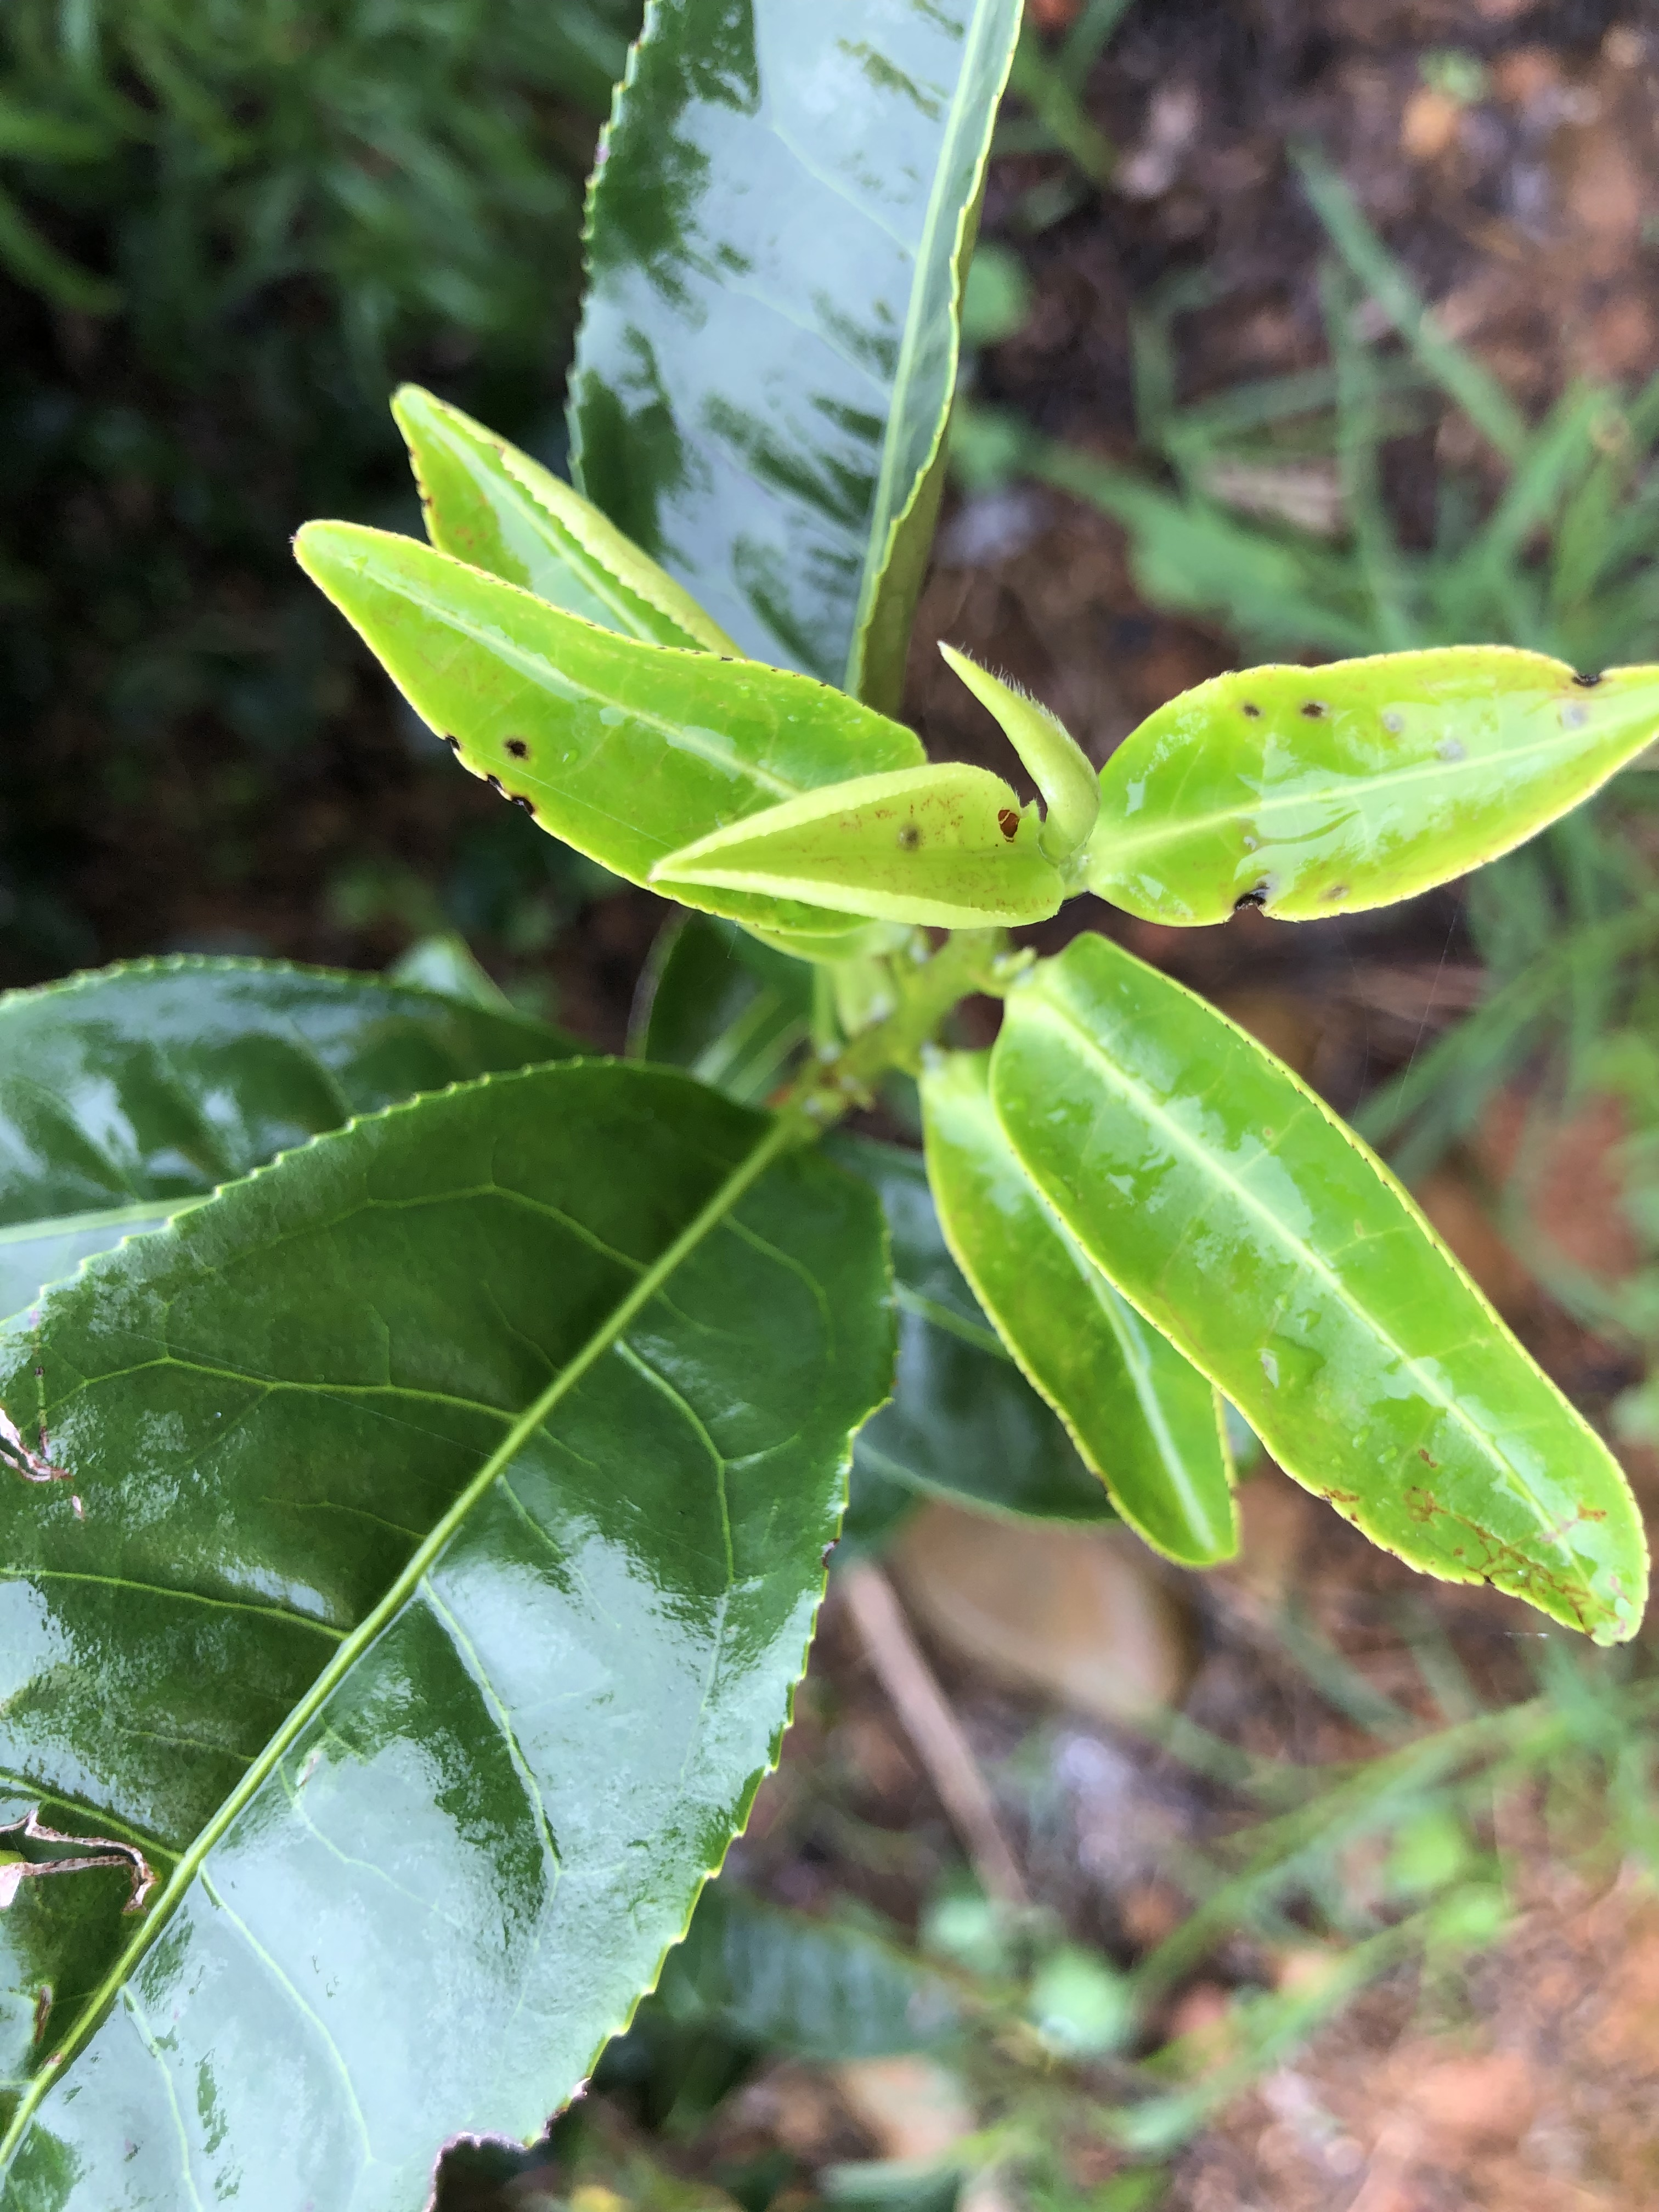formosa: (645, 749, 1063, 925)
thrips: (986, 937, 1635, 1656), (1080, 634, 1633, 927)
